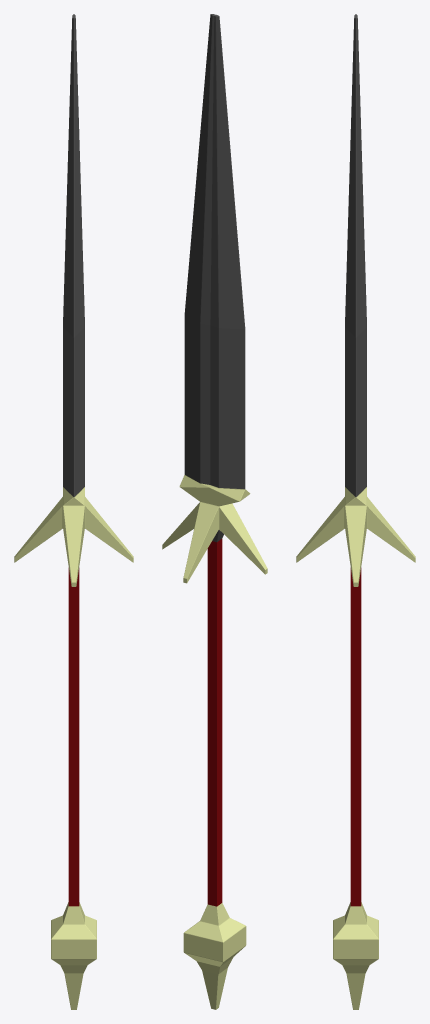
Rendered from lance 1.fbx.
3 views of the same model, side by side, from view 1: azimuth 90°, elevation 25°; view 2: azimuth 150°, elevation 25°; view 3: azimuth 270°, elevation 25° (orthographic).
Visible parts, largest first — view 1: Lance; view 2: Lance; view 3: Lance.
Part boxes in pixels (x1=…): Lance: x1=14, y1=14, x2=133, y2=1009; Lance: x1=162, y1=14, x2=267, y2=1009; Lance: x1=296, y1=14, x2=415, y2=1009.
Size of the model in its own units: 1091 by 10033 by 1091.
